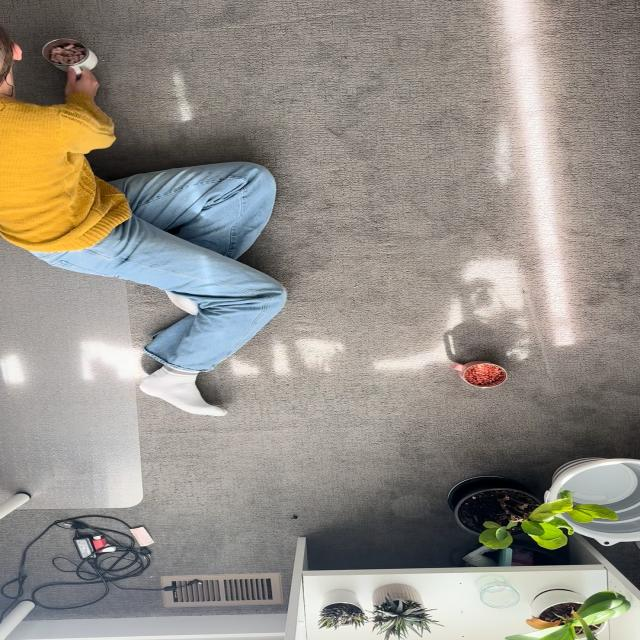IBC: (43, 39, 97, 73), (450, 360, 507, 388)
